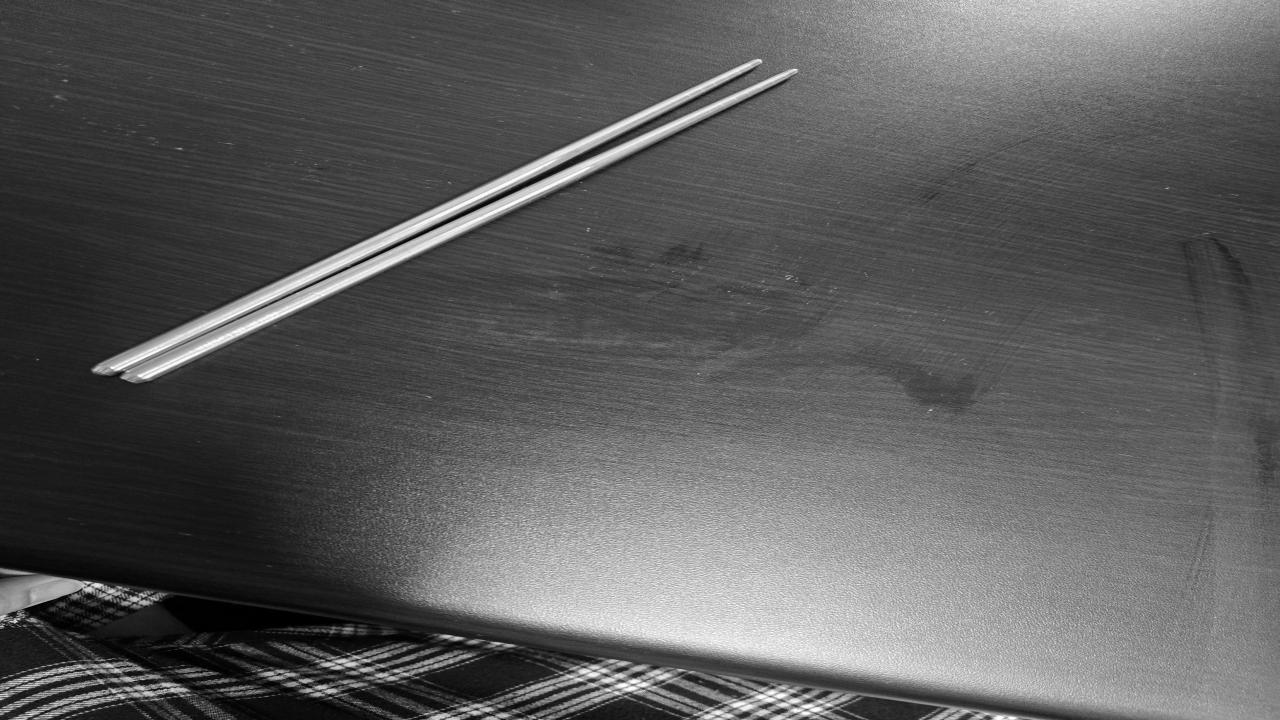chopstick: (84, 59, 809, 387)
